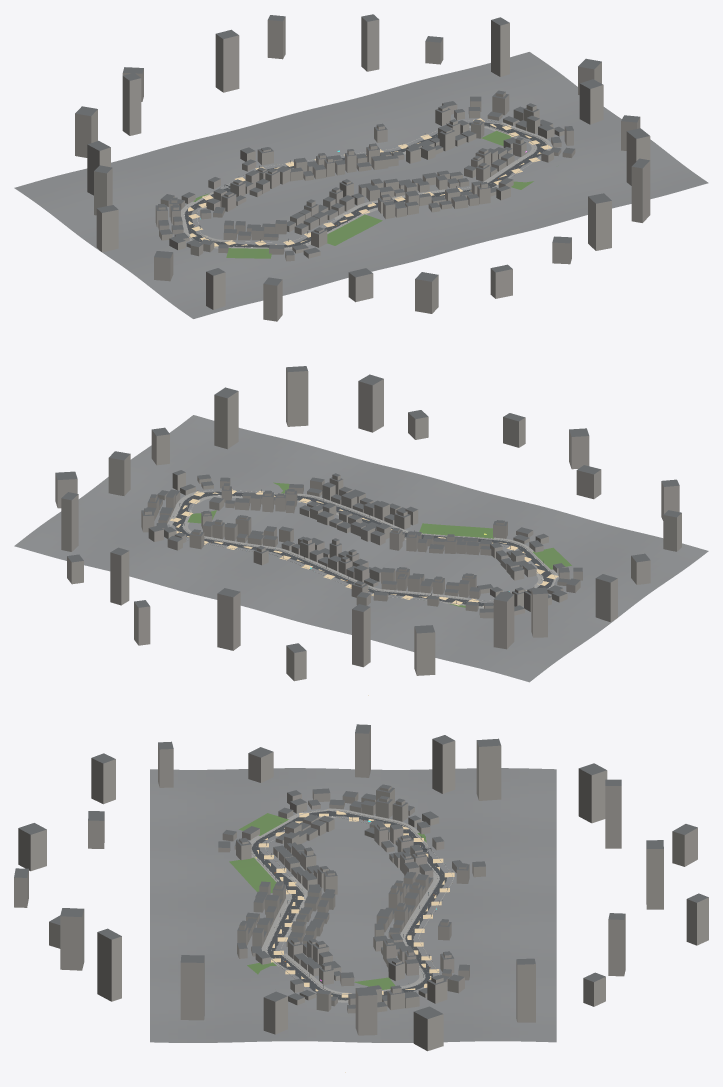
File: riverside_sprint.glb
3 views of the same model, one above another, from view 1: azimuth 30°, elevation 25°; view 2: azimuth 150°, elevation 25°; view 3: azimuth 270°, elevation 25° (orthographic). The views are drawn at different scales.
Parts seen in each view (by area): view 1: riverside_sprint - City; view 2: riverside_sprint - City; view 3: riverside_sprint - City.
Boxes of the visible parts, x1,y1,x2,y2 form: riverside_sprint - City: (14,14,708,321); riverside_sprint - City: (14,366,708,682); riverside_sprint - City: (14,724,708,1051).
Size of the model in its own units: 1505 by 562 by 1505.
